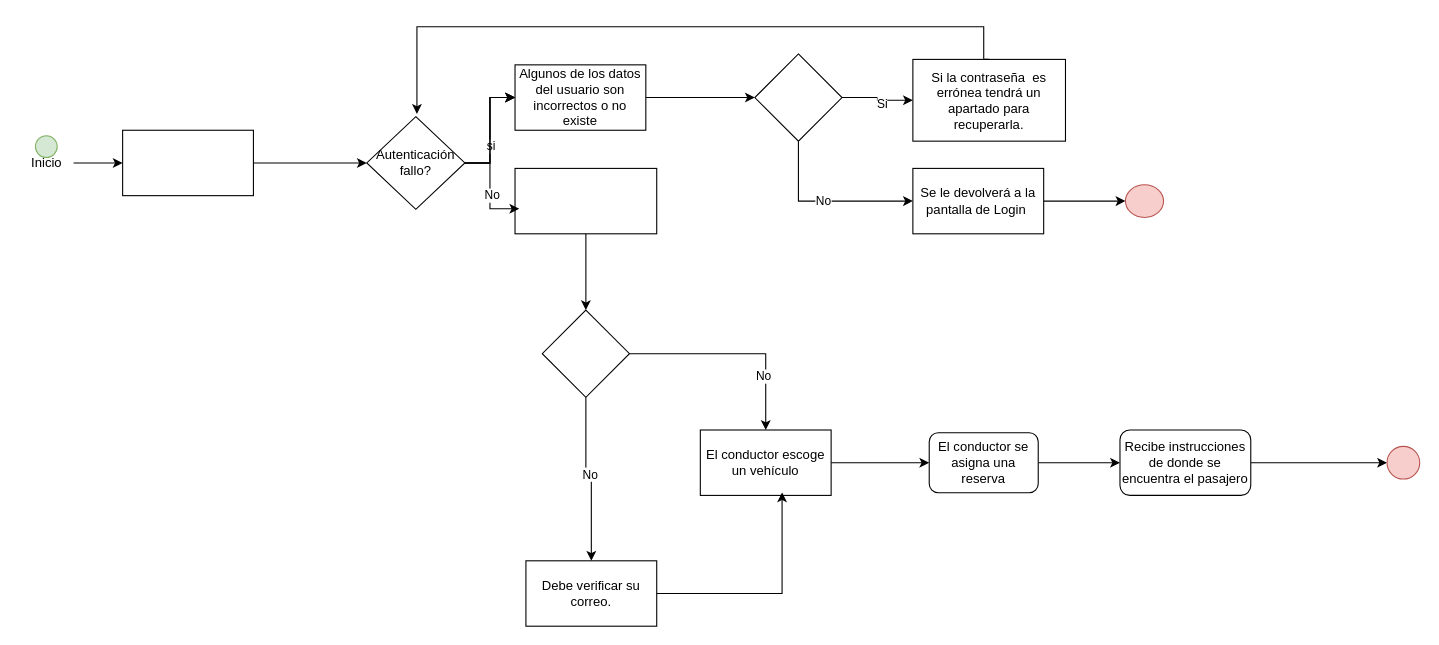
This 1439x645 diagram has some shape labels left out. Here are the shapes that lost their labels. From the top down, the centre of each, then its label:
point 798,97: El usuario existe?
point 187,162: Conductor inicia sesión en la APP
point 585,200: El usuario inició sesión correctamente
point 585,353: Es su primera vez en la App?
